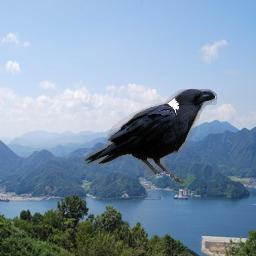Crow: (84, 89, 217, 185)
